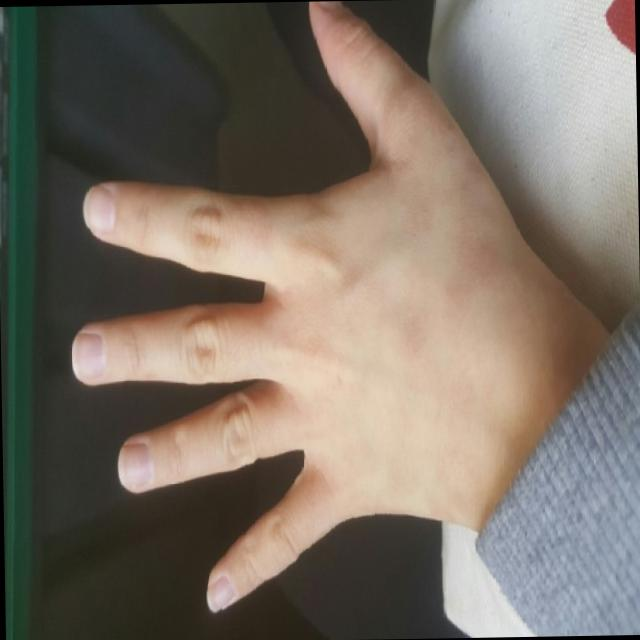Nail: (72, 331, 107, 378), (83, 184, 117, 231), (119, 442, 153, 489), (205, 575, 234, 612)
